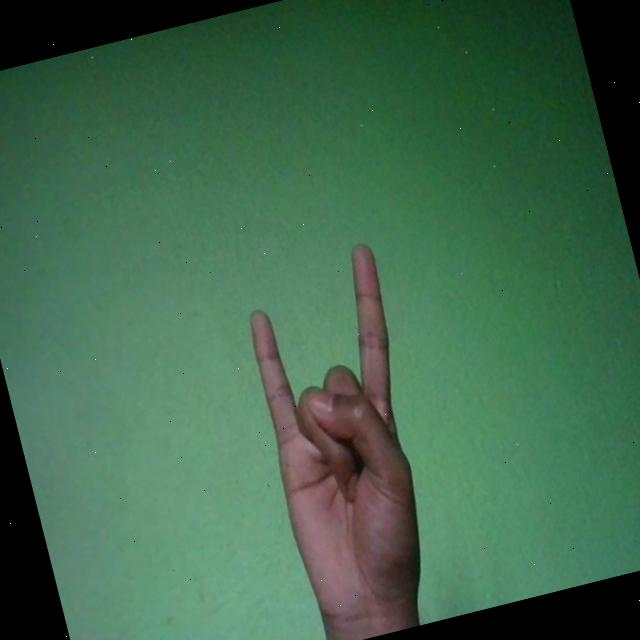open Plam: (229, 239, 463, 640)
